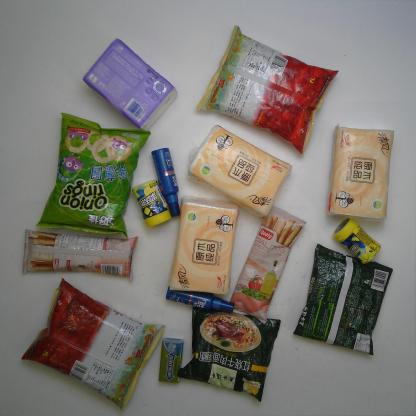Dessert: (227, 202, 308, 326), (19, 226, 140, 283)
Gum: (128, 176, 175, 232), (332, 216, 384, 266), (157, 335, 184, 386)
Instant Noodles: (292, 242, 395, 359), (175, 304, 282, 404)
Personal Hygiene: (164, 281, 238, 316), (148, 144, 182, 218)
Puffed Food: (19, 276, 167, 412), (194, 22, 341, 157), (32, 110, 154, 240)
Tissue: (184, 122, 294, 222), (79, 36, 180, 133), (166, 192, 242, 298), (325, 120, 396, 225)
